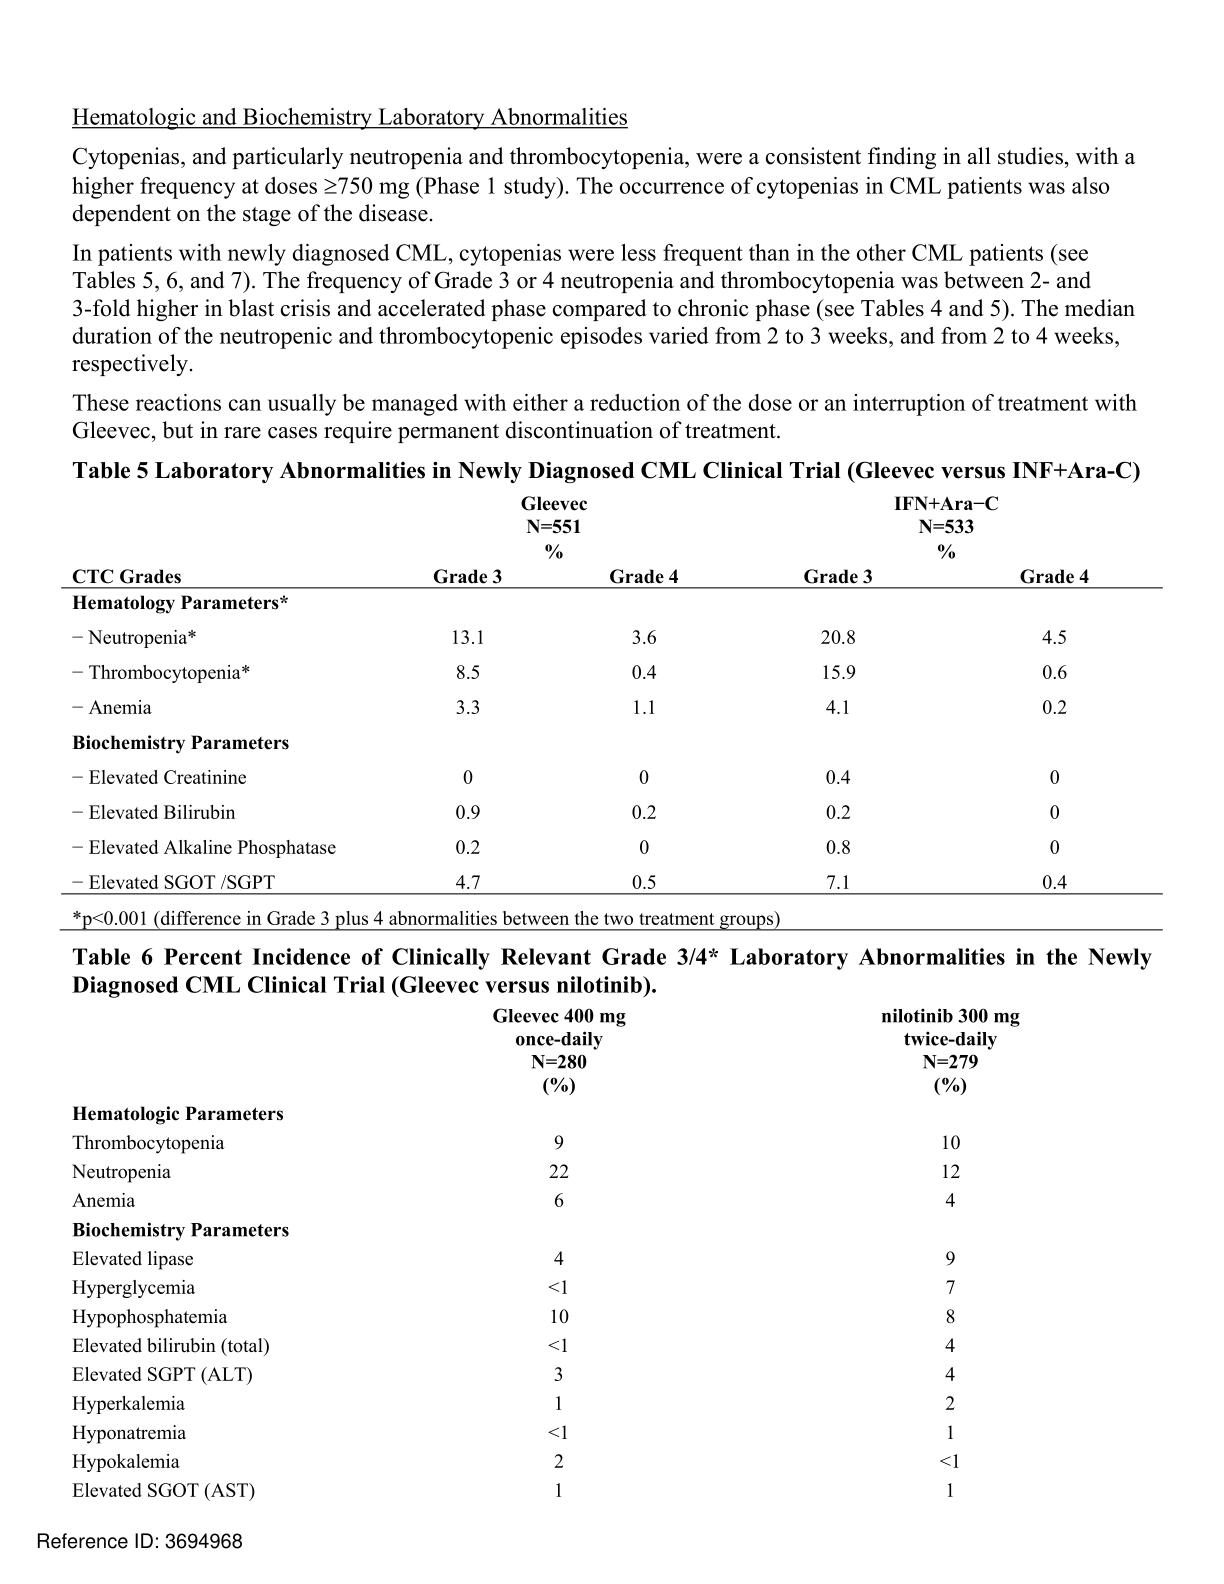nolines: (69, 1004, 1023, 1504)
partial_lined_merged_cells: (59, 491, 1166, 897)
